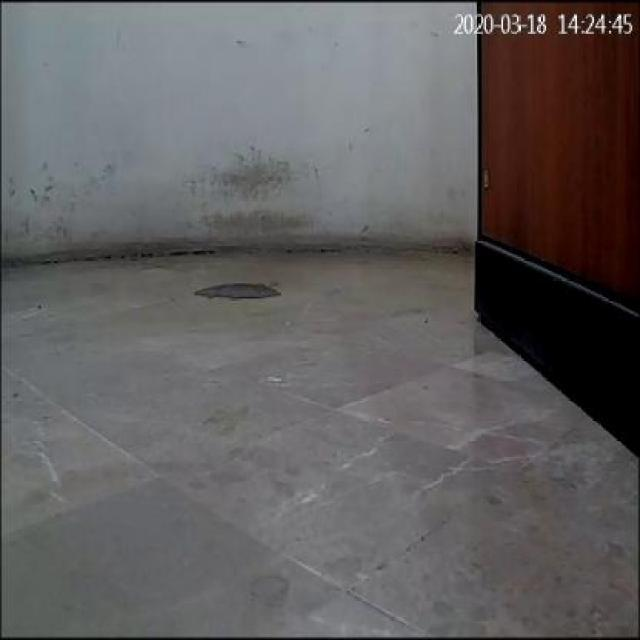spill: (194, 278, 278, 298)
